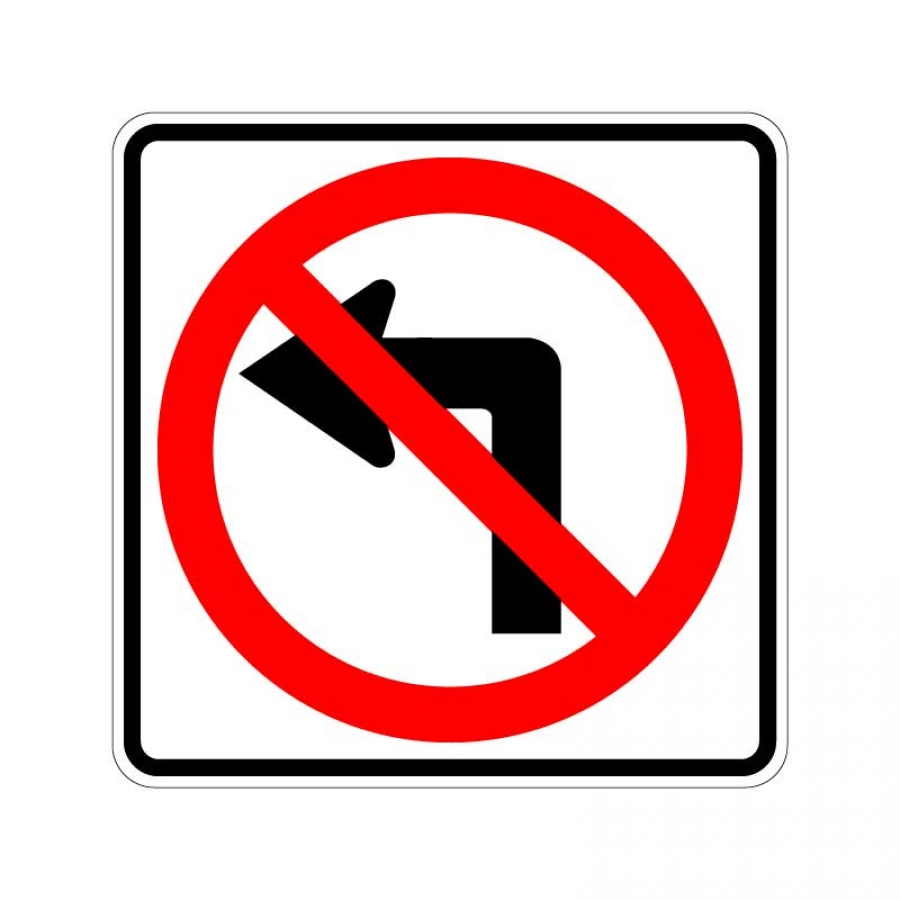No_left_turn: (156, 161, 744, 744)
